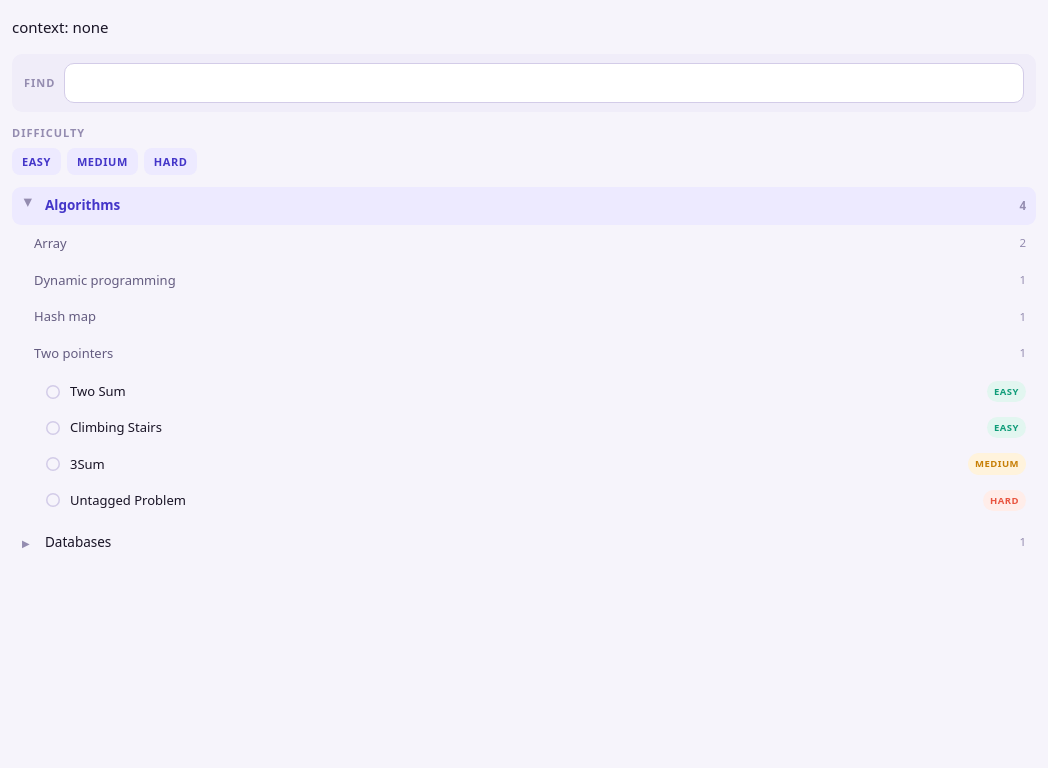
TreeBrowser sidebarMode (issue: swe-practice-fs-build) › hides the domain-level fallback list once a pattern is picked, showing only that pattern's items
Expected: the button "Untagged Problem Hard" is shown, [16,482,1036,518]
Click the button "Array 2" at (50,243), box [12,225,1036,262]
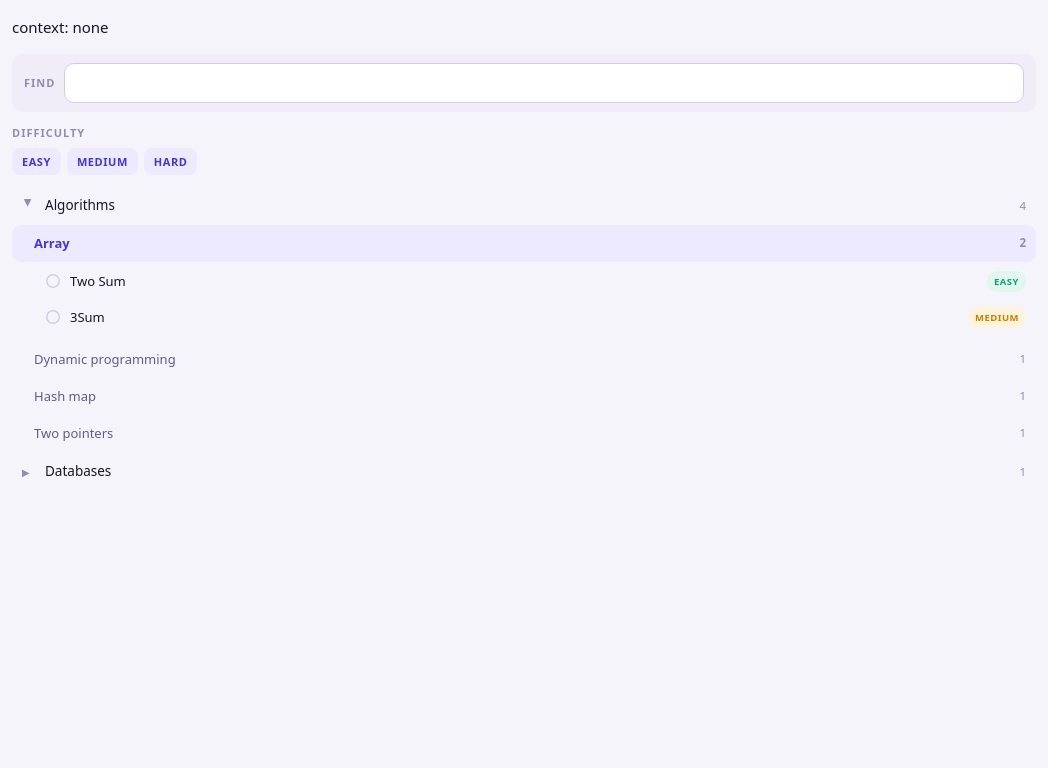
Expected: the button "Two Sum Easy" is shown, [16,264,1036,299]
Expected: the button "Untagged Problem" is gone
